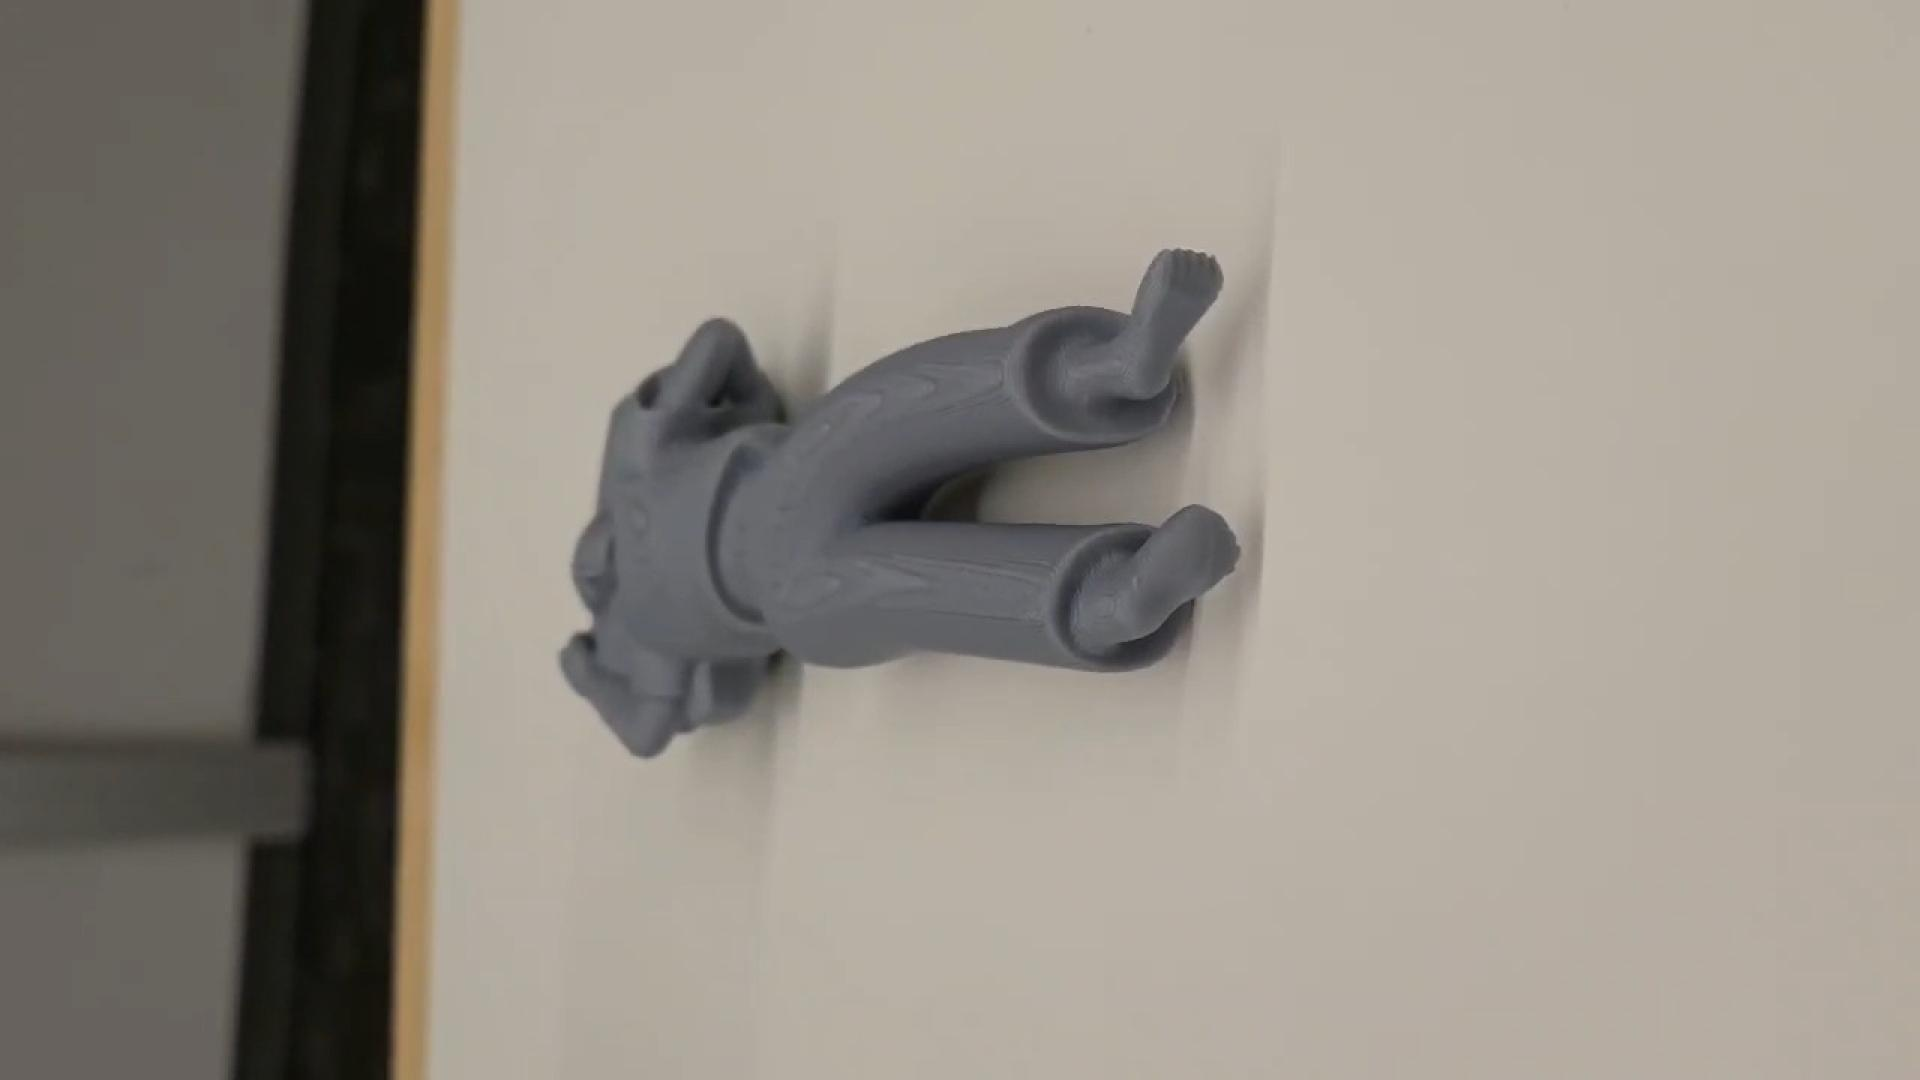Bad-style: (563, 228, 1245, 770)
